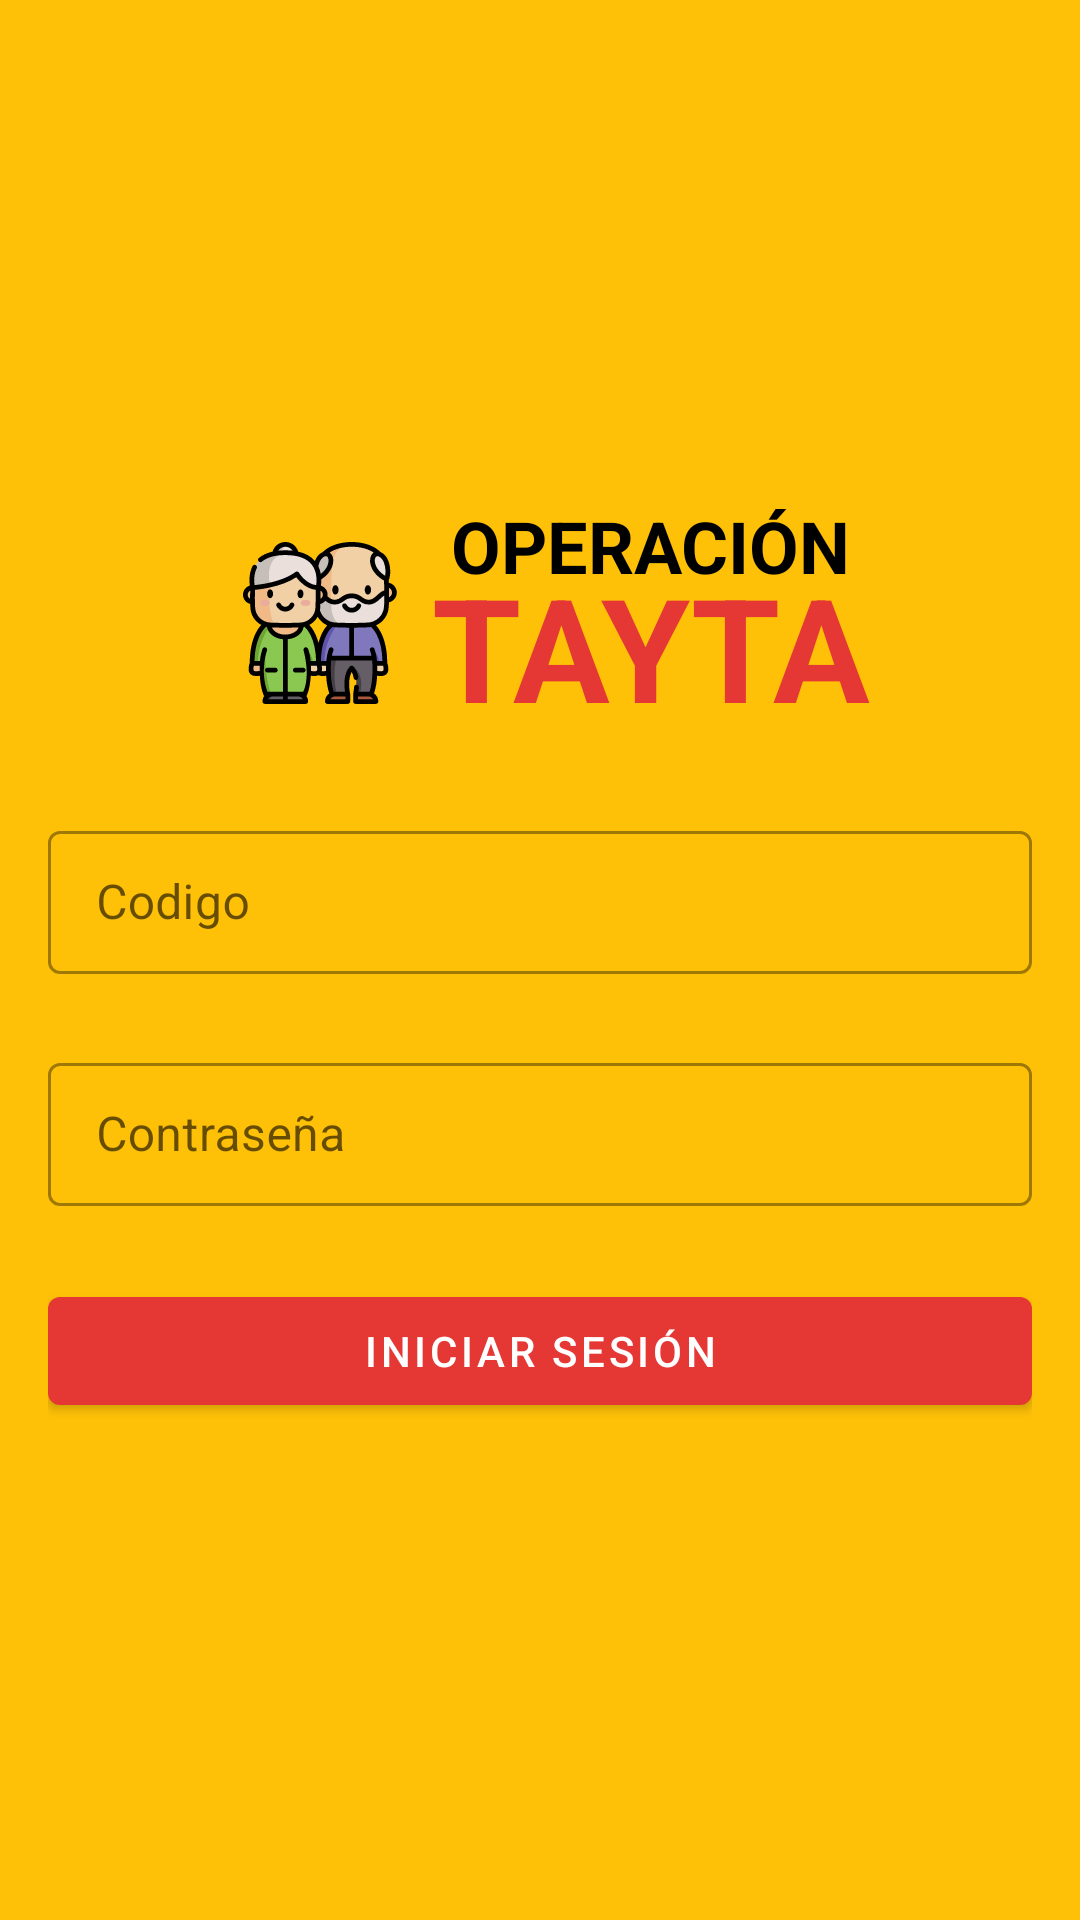

Where icons sit on this 1080w x 1920h app screen, as (x1, y1, x2, y2):
granparents: (243, 542, 397, 704)
